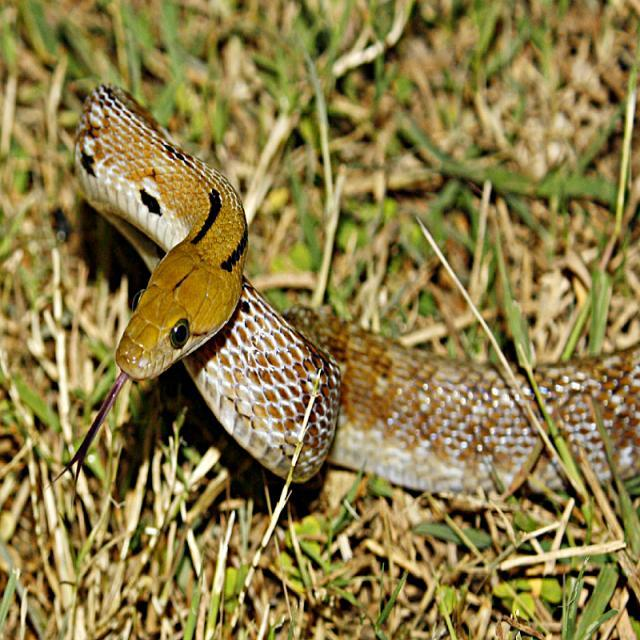Snake: (54, 81, 638, 502)
